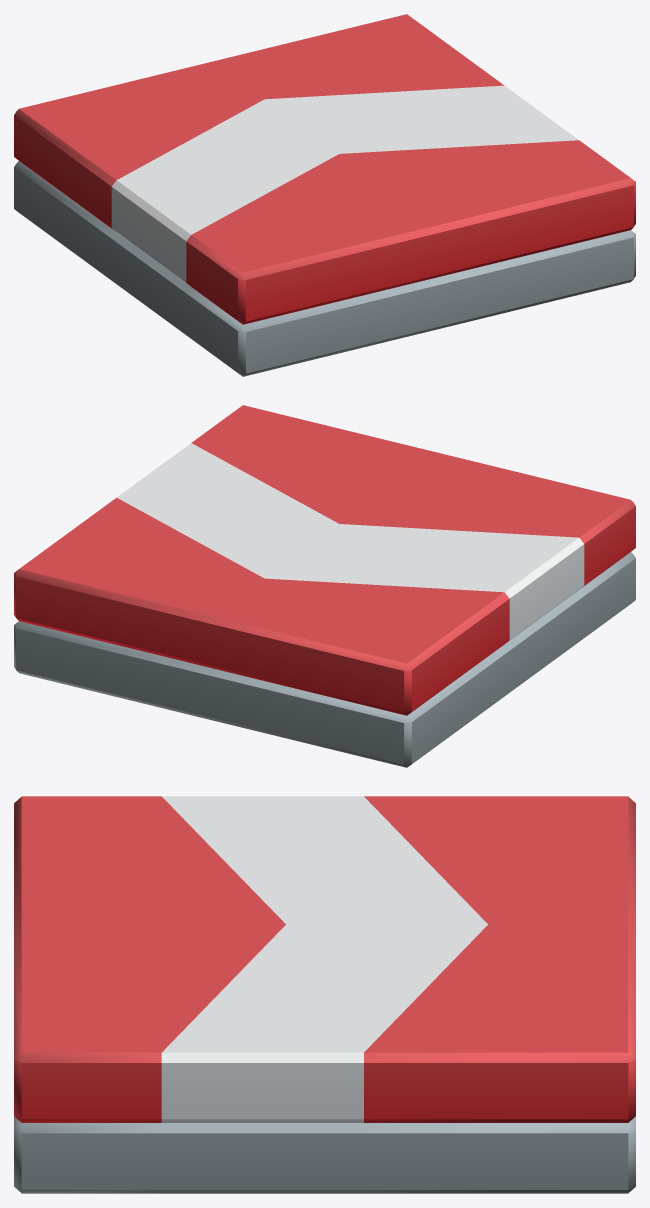
The model's file is platform_arrow_4x4x1_red.glb.
3 views of the same model, one above another, from view 1: azimuth 30°, elevation 25°; view 2: azimuth 150°, elevation 25°; view 3: azimuth 270°, elevation 25° (orthographic). The views are drawn at different scales.
Visible parts, largest first — view 1: platform_arrow_4x4x1_red; view 2: platform_arrow_4x4x1_red; view 3: platform_arrow_4x4x1_red.
Part boxes in pixels (bbox=[...]): platform_arrow_4x4x1_red: bbox=[14, 14, 635, 376]; platform_arrow_4x4x1_red: bbox=[14, 405, 635, 767]; platform_arrow_4x4x1_red: bbox=[14, 796, 635, 1193].
Bounding box in the file's own units: 4 × 1 × 4.
Materials: 1 (1 with a texture image).
